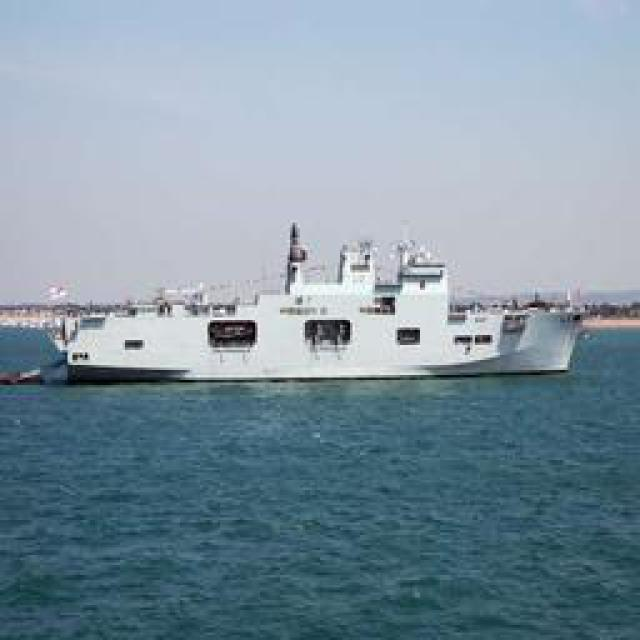Ship: (40, 219, 593, 389)
